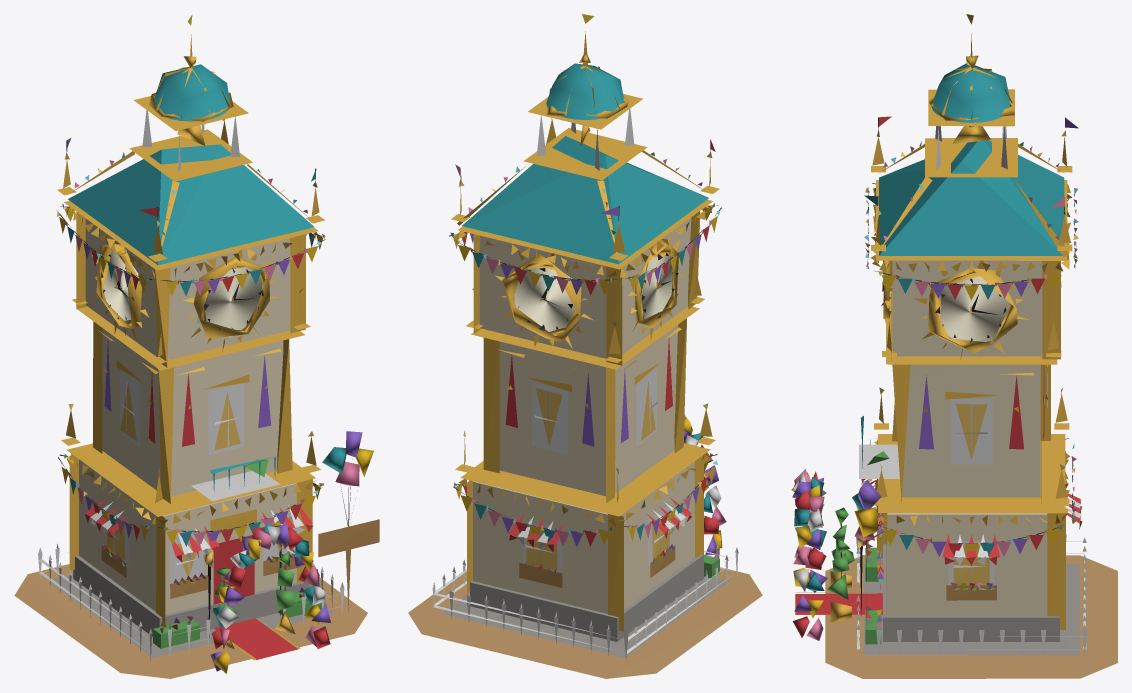
File: clock-tower-lod1-6.68e6af18.glb
3 renders of one model, left to right at view 1: azimuth 30°, elevation 25°; view 2: azimuth 150°, elevation 25°; view 3: azimuth 270°, elevation 25°, orthographic. The views are drawn at different scales.
Visible parts, largest first — view 1: ClockTower_Stage6__T_vcol; view 2: ClockTower_Stage6__T_vcol; view 3: ClockTower_Stage6__T_vcol.
Boxes of the visible parts, box(x1,y1,x2,y2) form: ClockTower_Stage6__T_vcol: box(14, 14, 379, 678); ClockTower_Stage6__T_vcol: box(408, 14, 762, 678); ClockTower_Stage6__T_vcol: box(791, 14, 1117, 678).
Bounding box in the file's own units: 4.91 × 10.63 × 5.22.
